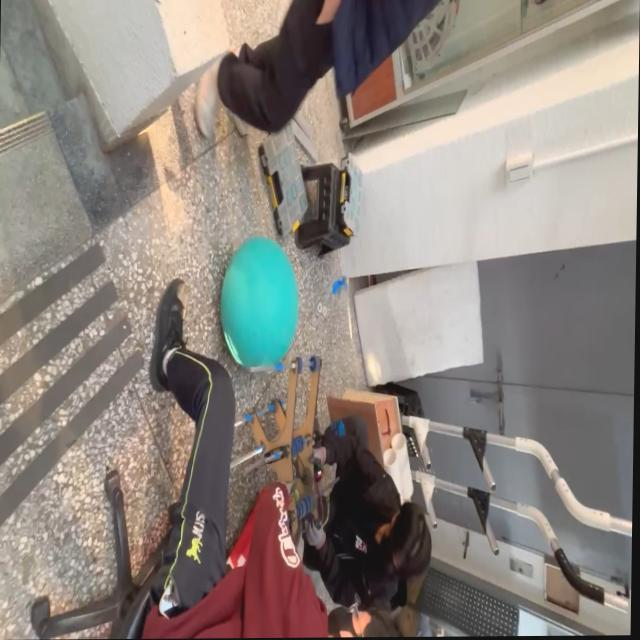ALGAE: (217, 234, 300, 372)
